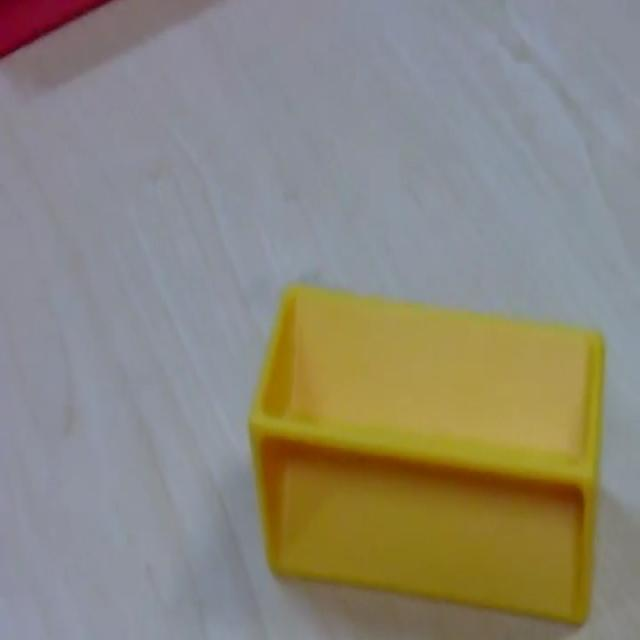yellow_block: (248, 279, 606, 625)
